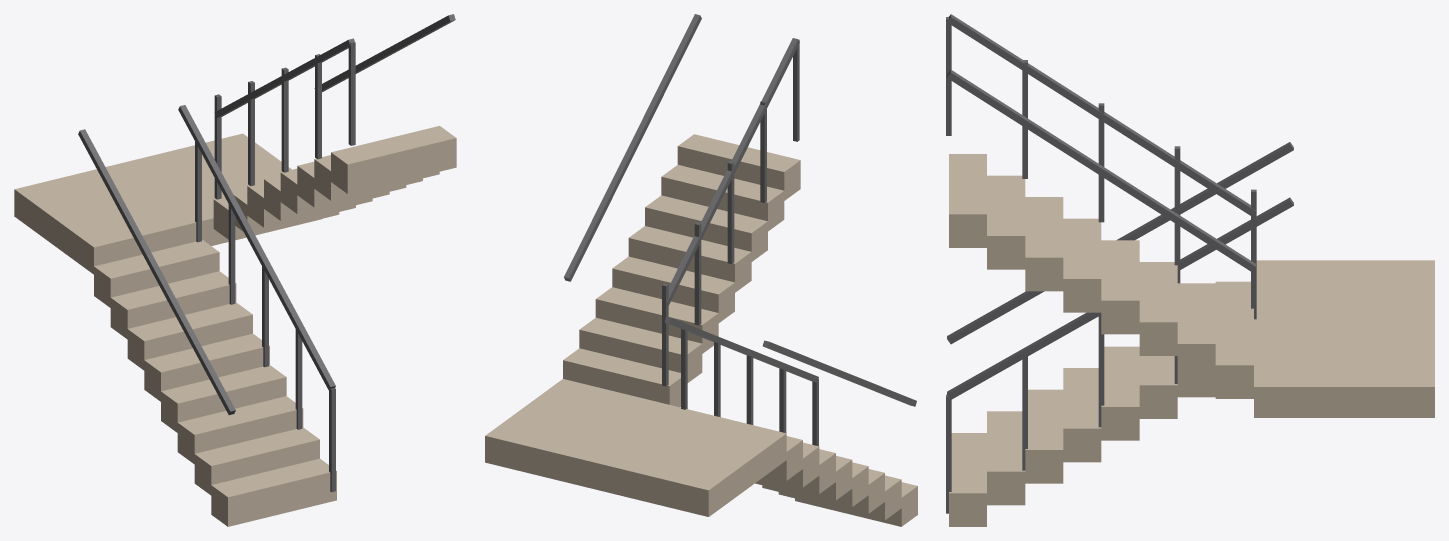
File: porch_stair.glb
3 views of the same model, side by side, from view 1: azimuth 30°, elevation 25°; view 2: azimuth 150°, elevation 25°; view 3: azimuth 270°, elevation 25° (orthographic). The views are drawn at different scales.
Visible parts, largest first — view 1: porch_stair_wood, porch_stair_iron; view 2: porch_stair_wood, porch_stair_iron; view 3: porch_stair_wood, porch_stair_iron.
Boxes of the visible parts, x1,y1,x2,y2 form: porch_stair_wood: (14,126,456,526); porch_stair_iron: (78,14,455,492); porch_stair_wood: (485,134,917,526); porch_stair_iron: (564,14,916,446); porch_stair_wood: (949,154,1434,526); porch_stair_iron: (946,14,1293,513).
Bounding box in the file's own units: 2.1 × 4.01 × 3.42.
